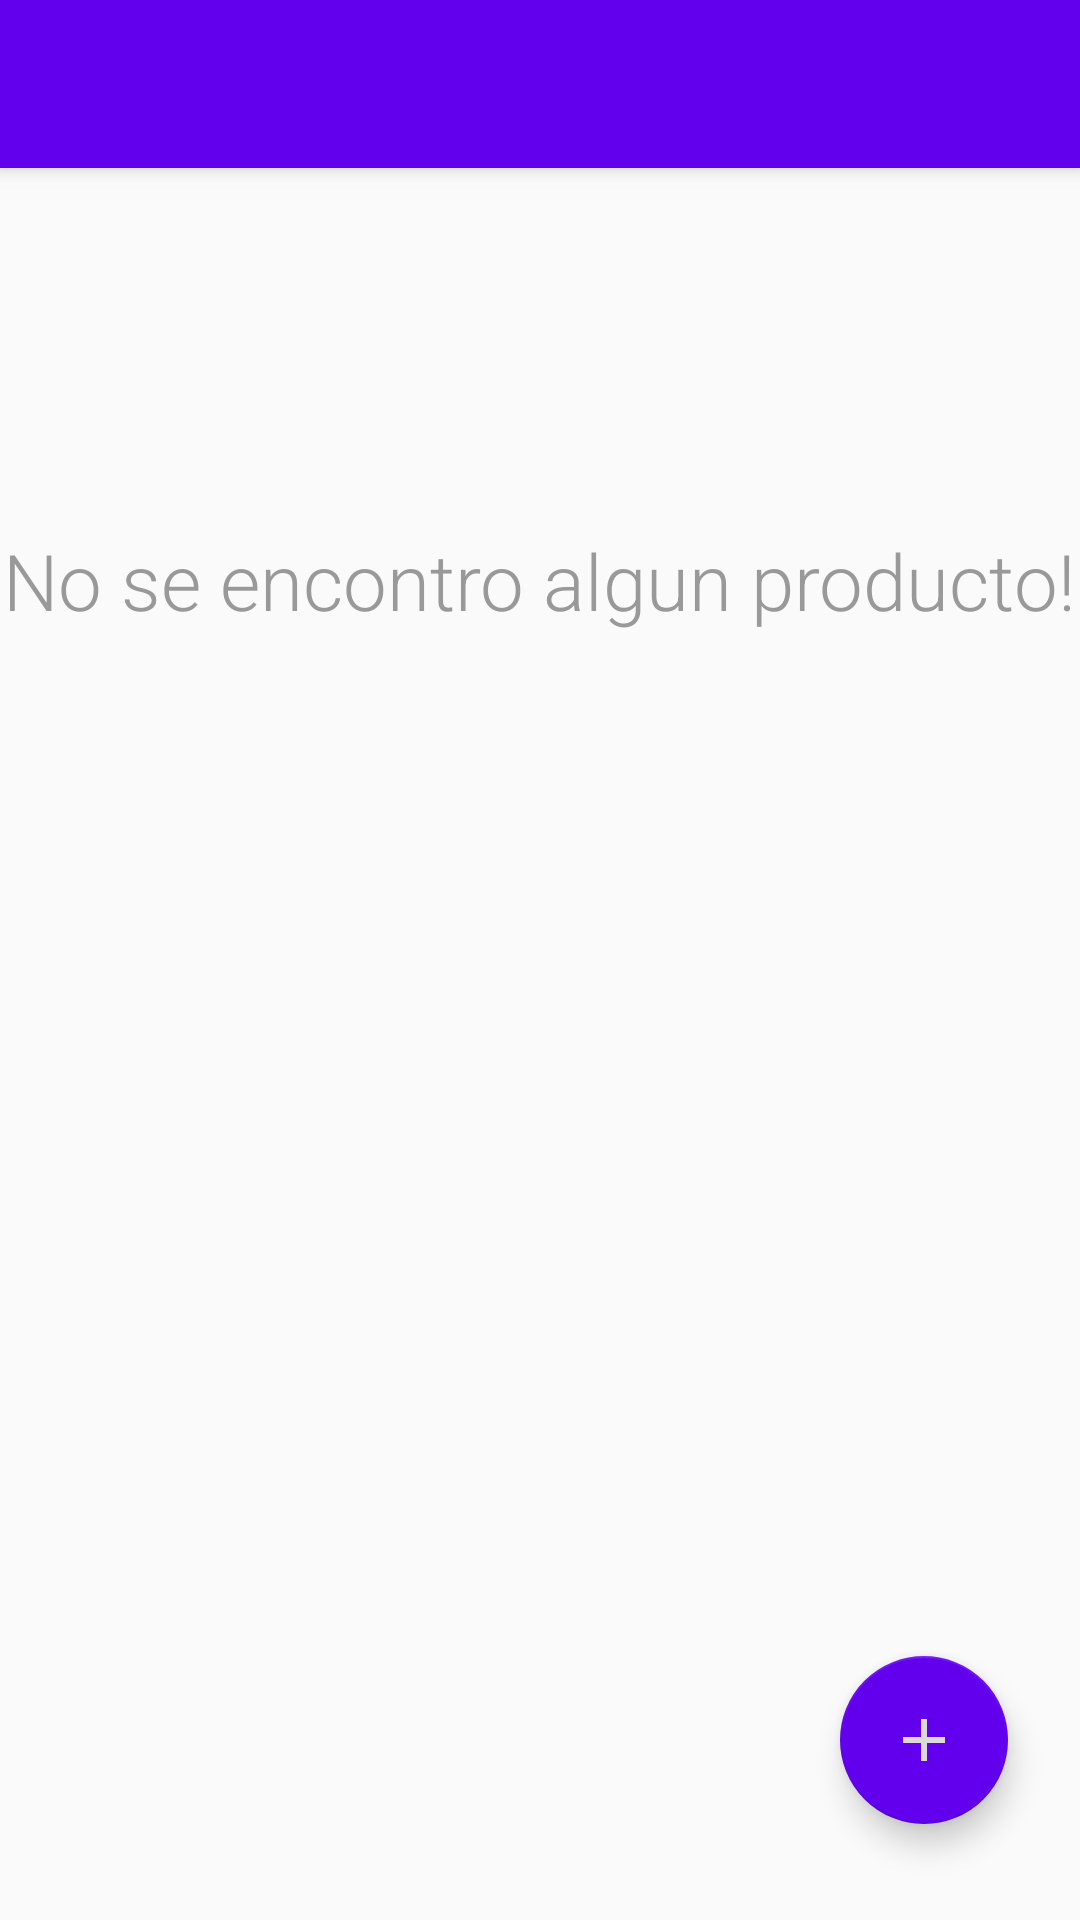

Named icons in this screenshot (1080 × 1920) and their centers, (x,y):
plus: (924,1740)
